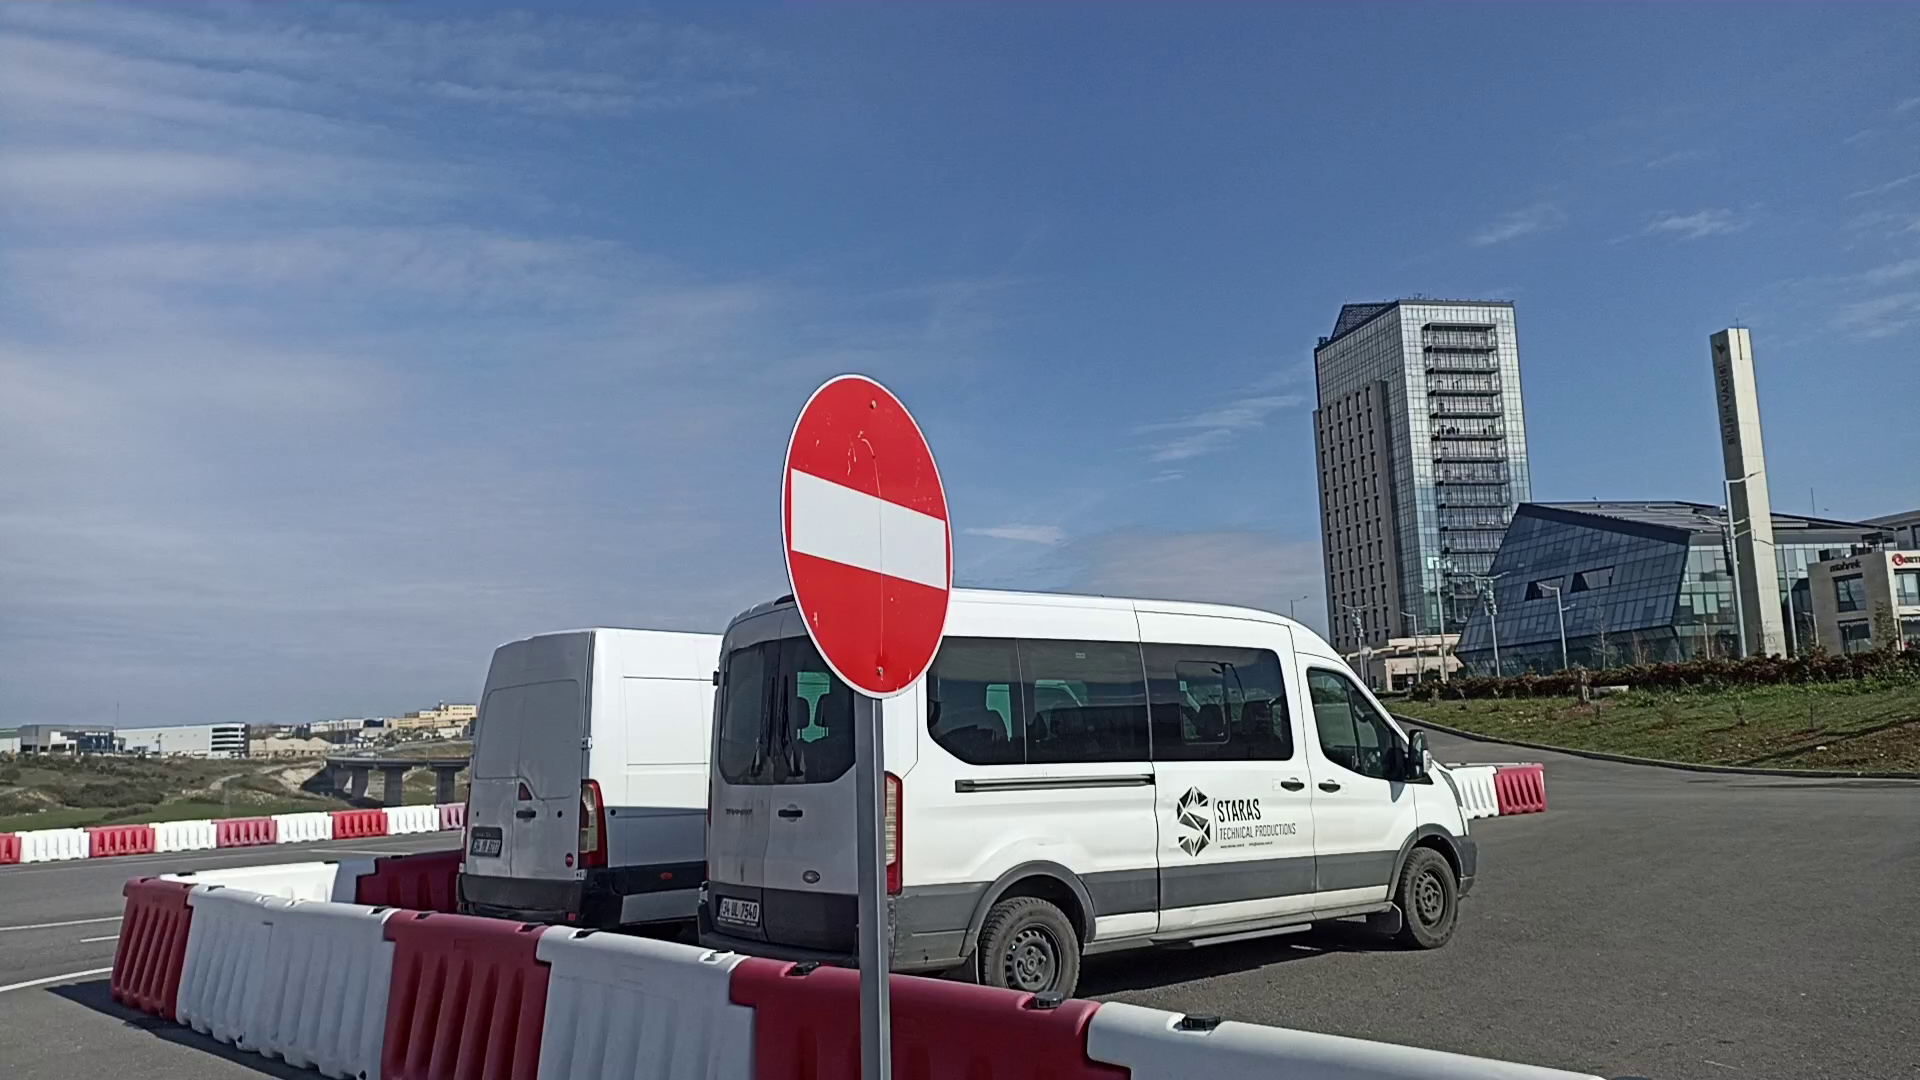noentryway: (773, 371, 957, 703)
